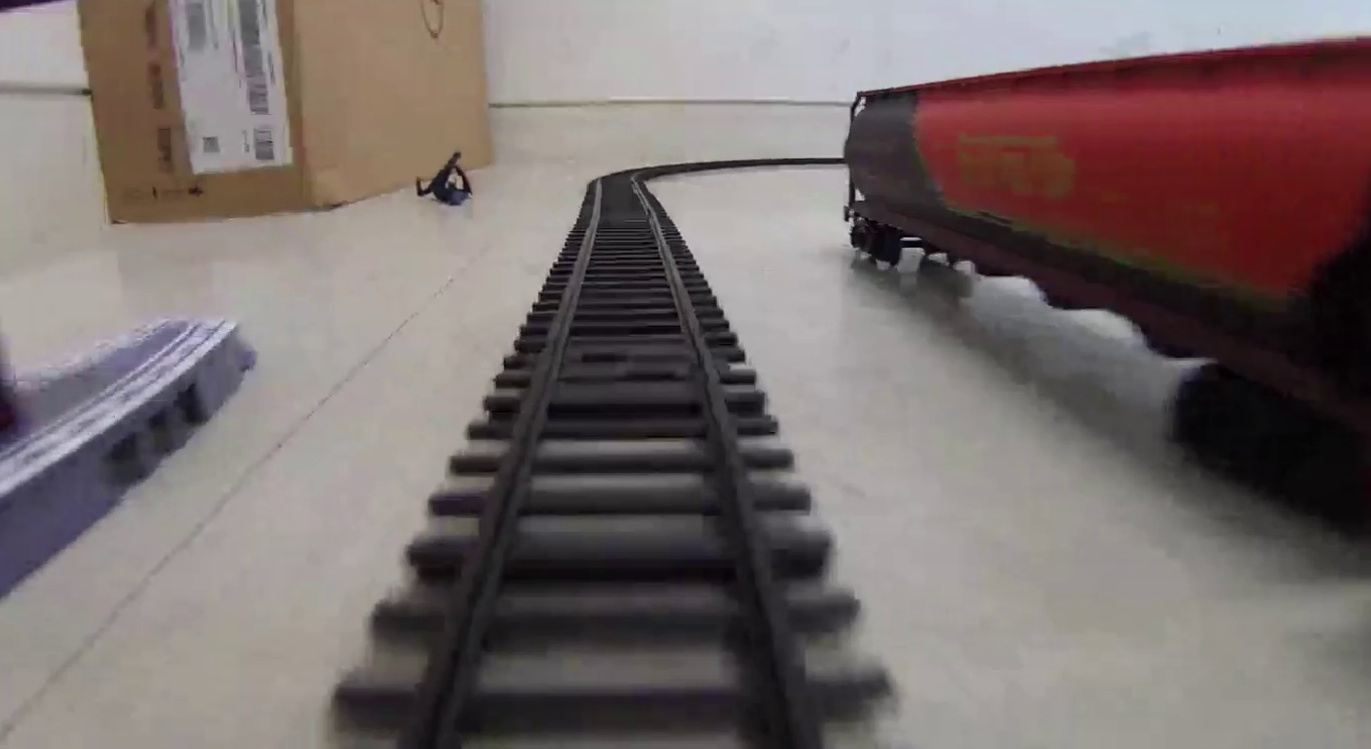people: (414, 151, 474, 207)
